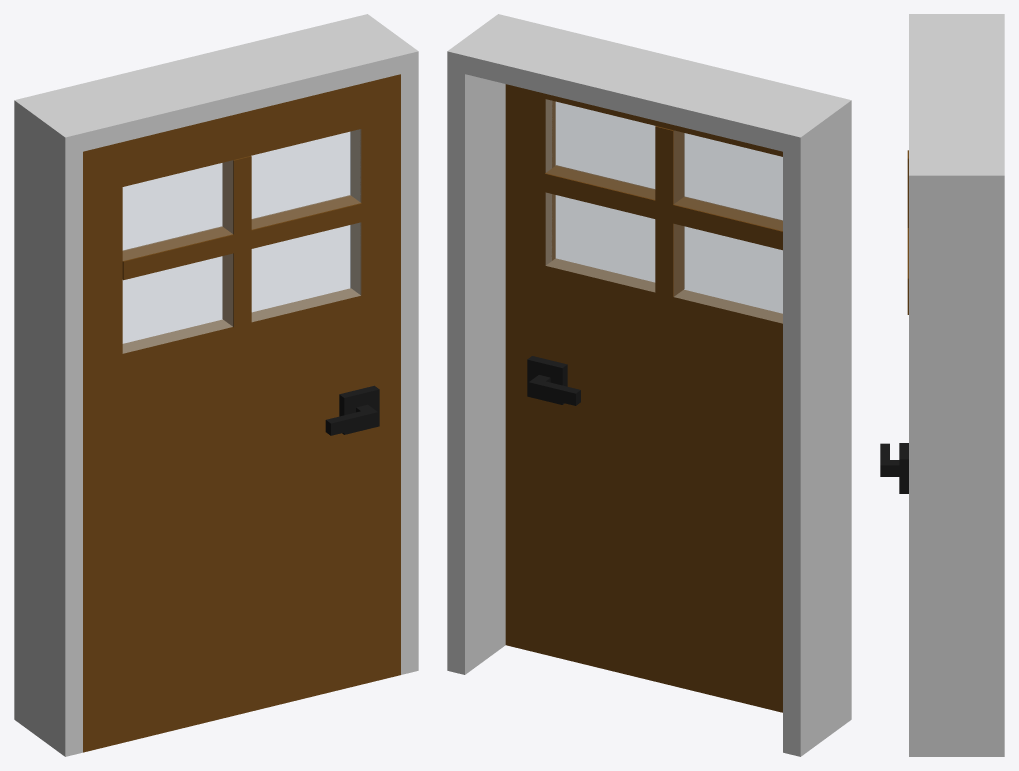
Rendered from classic_door_with_window.glb.
3 views of the same model, side by side, from view 1: azimuth 30°, elevation 25°; view 2: azimuth 150°, elevation 25°; view 3: azimuth 270°, elevation 25° (orthographic). The views are drawn at different scales.
Parts seen in each view (by area): view 1: Door, Frame, Cube, Cube.002, Cube.001, Door_handle; view 2: Door, Frame, Cube, Cube.002, Cube.001, Door_handle.001; view 3: Frame, Door_handle.
Part boxes in pixels (bbox=[...]): Door: bbox=[83, 74, 400, 752]; Frame: bbox=[14, 14, 418, 756]; Cube: bbox=[122, 129, 360, 353]; Cube.002: bbox=[122, 195, 361, 280]; Cube.001: bbox=[222, 156, 251, 327]; Door_handle: bbox=[325, 385, 379, 435]; Door: bbox=[505, 84, 782, 712]; Frame: bbox=[447, 14, 851, 756]; Cube: bbox=[545, 99, 782, 323]; Cube.002: bbox=[544, 165, 782, 250]; Cube.001: bbox=[655, 126, 684, 297]; Door_handle.001: bbox=[527, 356, 580, 405]; Frame: bbox=[909, 14, 1004, 756]; Door_handle: bbox=[880, 443, 908, 493].
Bounding box in the file's own units: 2 × 3.35 × 0.65.
